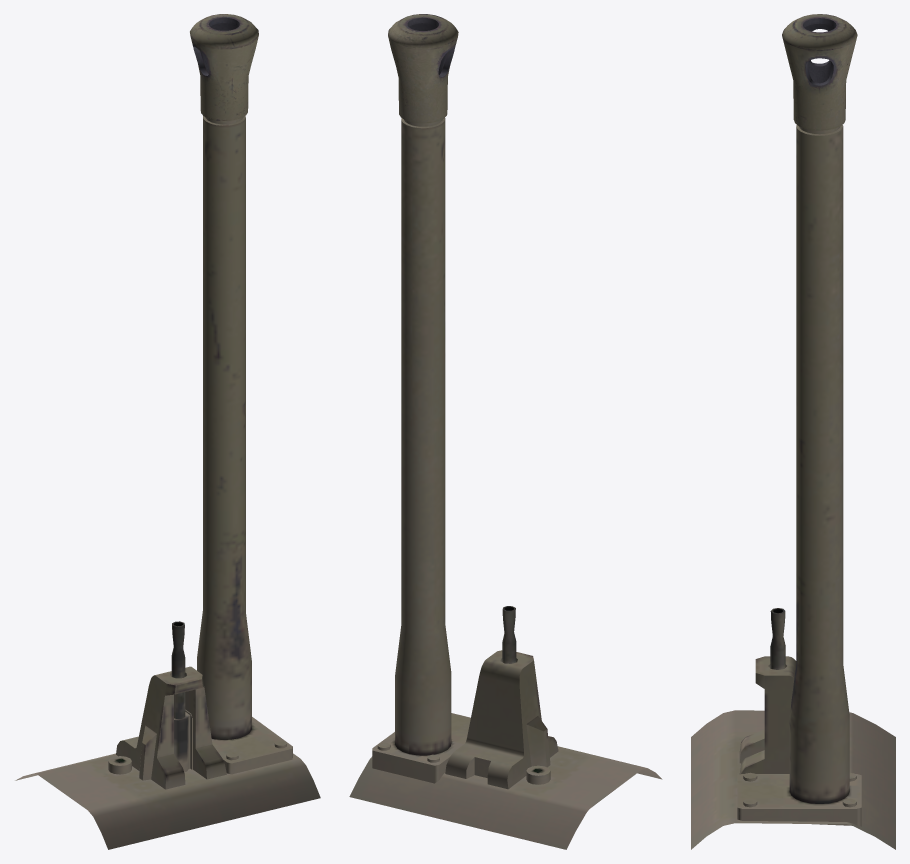
The model's file is Gun_07.glb.
3 renders of one model, left to right at view 1: azimuth 30°, elevation 25°; view 2: azimuth 150°, elevation 25°; view 3: azimuth 270°, elevation 25°, orthographic. The views are drawn at different scales.
Parts seen in each view (by area): view 1: set_0_group_0; view 2: set_0_group_0; view 3: set_0_group_0.
Boxes of the visible parts, <box> form: set_0_group_0: <box>15,14,320,849</box>; set_0_group_0: <box>349,14,662,849</box>; set_0_group_0: <box>691,14,895,849</box>.
Bounding box in the file's own units: 0.6116 × 2.03 × 0.4689.
1 material, 1 textured.
